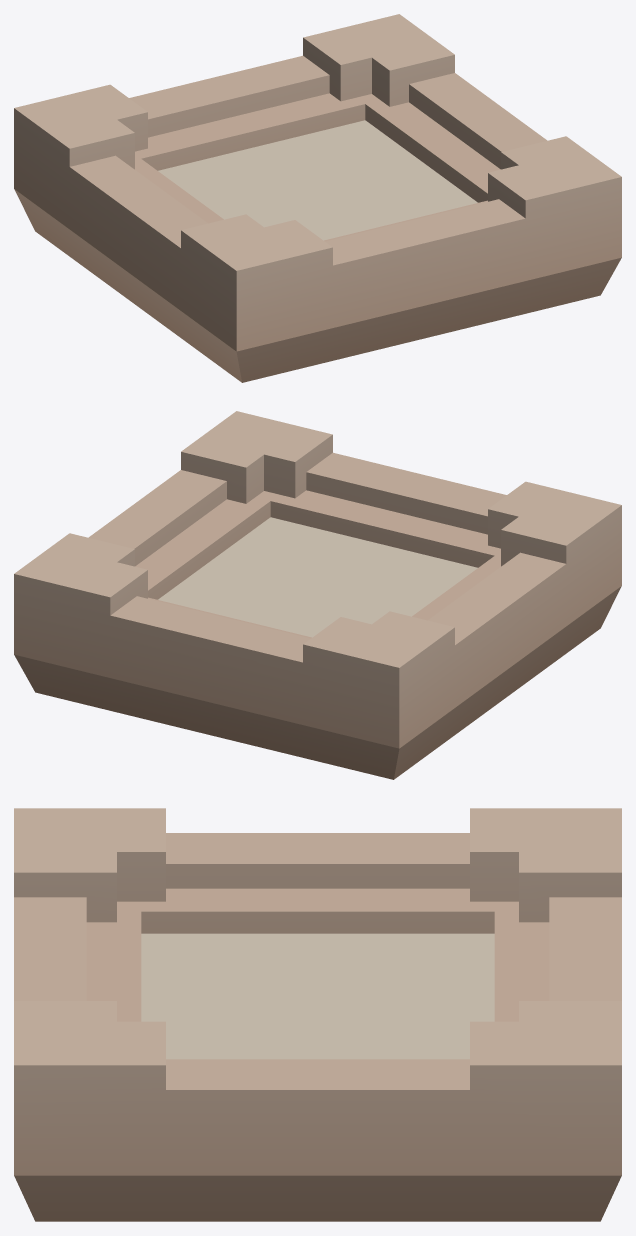
File: tower-square-top.glb
3 renders of one model, top to bottom at view 1: azimuth 30°, elevation 25°; view 2: azimuth 150°, elevation 25°; view 3: azimuth 270°, elevation 25°, orthographic. The views are drawn at different scales.
Visible parts, largest first — view 1: tower-square-top; view 2: tower-square-top; view 3: tower-square-top.
Boxes of the visible parts, x1,y1,x2,y2 form: tower-square-top: (14, 14, 621, 382); tower-square-top: (14, 411, 621, 779); tower-square-top: (14, 808, 621, 1221).
Size of the model in its own units: 1 by 0.3 by 1.
